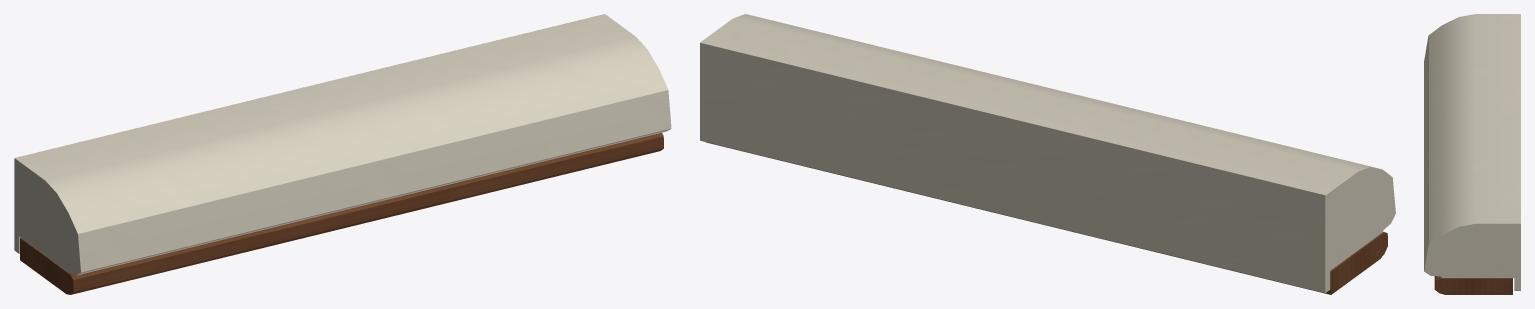
Rendered from AST-VR-01-H.glb.
The picture shows the model from 3 angles, left to right: view 1: azimuth 30°, elevation 25°; view 2: azimuth 150°, elevation 25°; view 3: azimuth 270°, elevation 25°; orthographic projection. The views are drawn at different scales.
Visible parts, largest first — view 1: ASTRAEA_runtime_ivory_enamel, ASTRAEA_runtime_warm_walnut; view 2: ASTRAEA_runtime_ivory_enamel, ASTRAEA_runtime_warm_walnut; view 3: ASTRAEA_runtime_ivory_enamel, ASTRAEA_runtime_warm_walnut.
Boxes of the visible parts, left/top/right/bottom form: ASTRAEA_runtime_ivory_enamel: left=14, top=14, right=671, bottom=275; ASTRAEA_runtime_warm_walnut: left=20, top=133, right=663, bottom=294; ASTRAEA_runtime_ivory_enamel: left=700, top=14, right=1395, bottom=293; ASTRAEA_runtime_warm_walnut: left=706, top=142, right=1387, bottom=294; ASTRAEA_runtime_ivory_enamel: left=1424, top=14, right=1520, bottom=290; ASTRAEA_runtime_warm_walnut: left=1434, top=276, right=1512, bottom=294.
Bounding box in the file's own units: 2.2 × 0.35 × 0.4298.
Materials: 2 (2 with a texture image).
